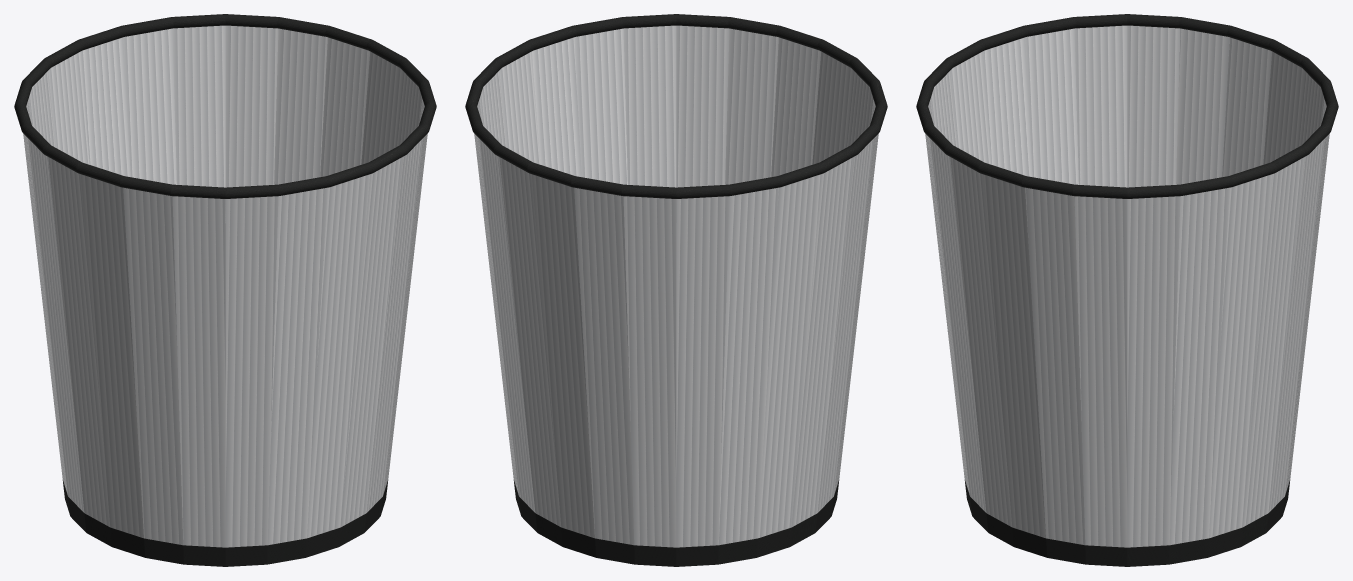
3 renders of one model, left to right at view 1: azimuth 30°, elevation 25°; view 2: azimuth 150°, elevation 25°; view 3: azimuth 270°, elevation 25°, orthographic.
Parts seen in each view (by area): view 1: mesh2_mesh2-geometry, mesh1_mesh1-geometry; view 2: mesh2_mesh2-geometry, mesh1_mesh1-geometry; view 3: mesh2_mesh2-geometry, mesh1_mesh1-geometry.
Boxes of the visible parts, x1=… form: mesh2_mesh2-geometry: x1=23, y1=25, x2=427, y2=566; mesh1_mesh1-geometry: x1=14, y1=14, x2=436, y2=198; mesh2_mesh2-geometry: x1=474, y1=25, x2=878, y2=566; mesh1_mesh1-geometry: x1=465, y1=14, x2=887, y2=198; mesh2_mesh2-geometry: x1=925, y1=25, x2=1329, y2=566; mesh1_mesh1-geometry: x1=916, y1=14, x2=1338, y2=198.
Bounding box in the file's own units: 0.5691 × 0.5935 × 0.5691.
